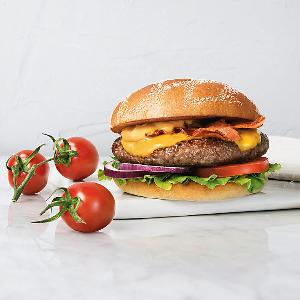cheeseburger: (104, 68, 276, 212)
